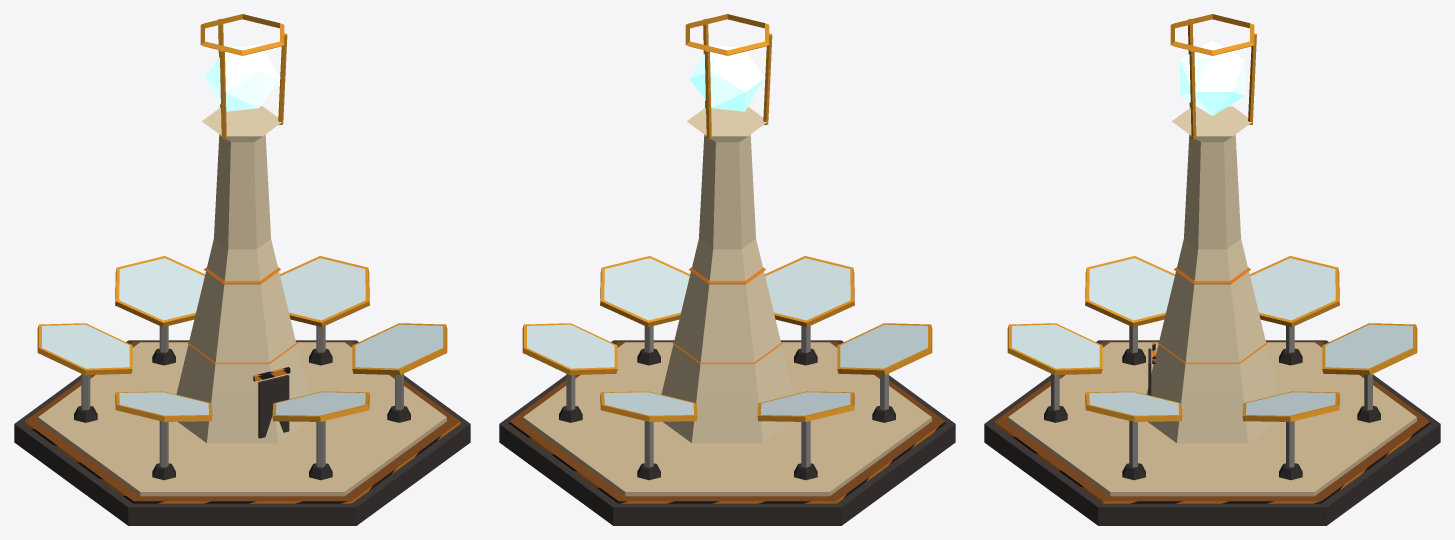
The model's file is solar-T5-koruna.glb.
3 renders of one model, left to right at view 1: azimuth 30°, elevation 25°; view 2: azimuth 150°, elevation 25°; view 3: azimuth 270°, elevation 25°, orthographic.
Visible parts, largest first — view 1: solar-T5-koruna; view 2: solar-T5-koruna; view 3: solar-T5-koruna.
Part boxes in pixels (left/top/right/bottom): solar-T5-koruna: left=14, top=14, right=470, bottom=525; solar-T5-koruna: left=499, top=14, right=955, bottom=525; solar-T5-koruna: left=984, top=14, right=1440, bottom=525.
Bounding box in the file's own units: 5.34 × 6.11 × 6.16.
Materials: 10 (1 with a texture image).
